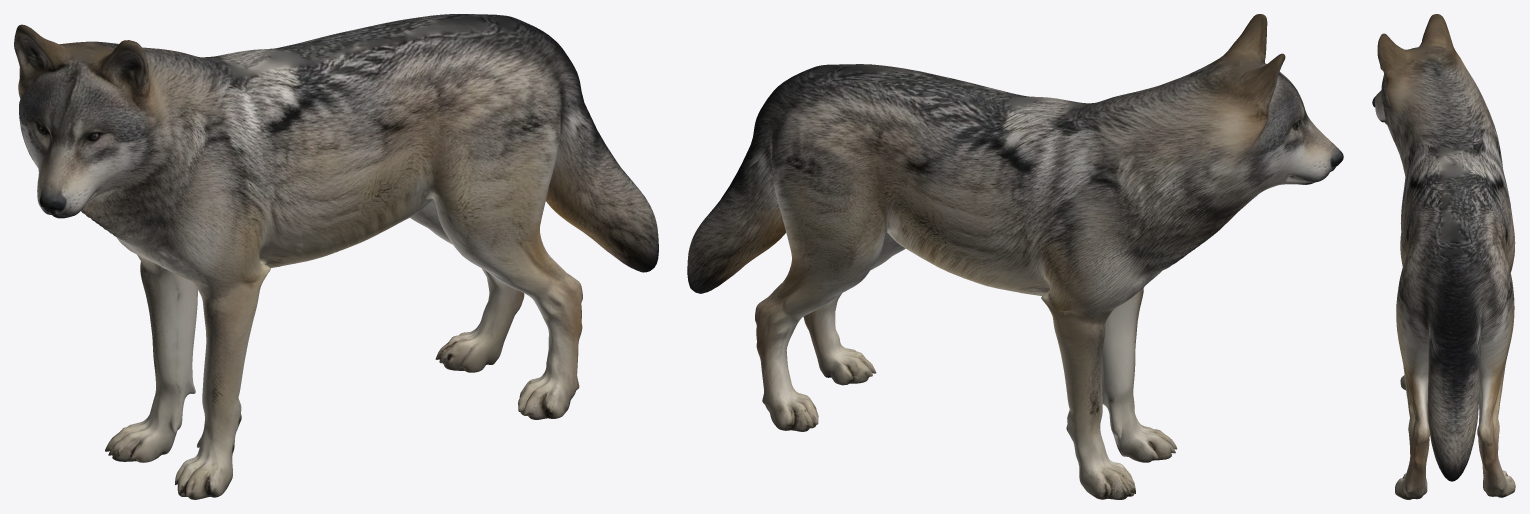
File: grey-wolf.glb
3 renders of one model, left to right at view 1: azimuth 30°, elevation 25°; view 2: azimuth 150°, elevation 25°; view 3: azimuth 270°, elevation 25°, orthographic. The views are drawn at different scales.
Parts seen in each view (by area): view 1: node_0; view 2: node_0; view 3: node_0.
Part boxes in pixels (box(x1,y1,x2,y2)): node_0: box(14, 14, 658, 499); node_0: box(687, 14, 1343, 499); node_0: box(1372, 14, 1515, 499).
Size of the model in its own units: 1.02 by 0.7237 by 0.2923.
1 material, 1 textured.
